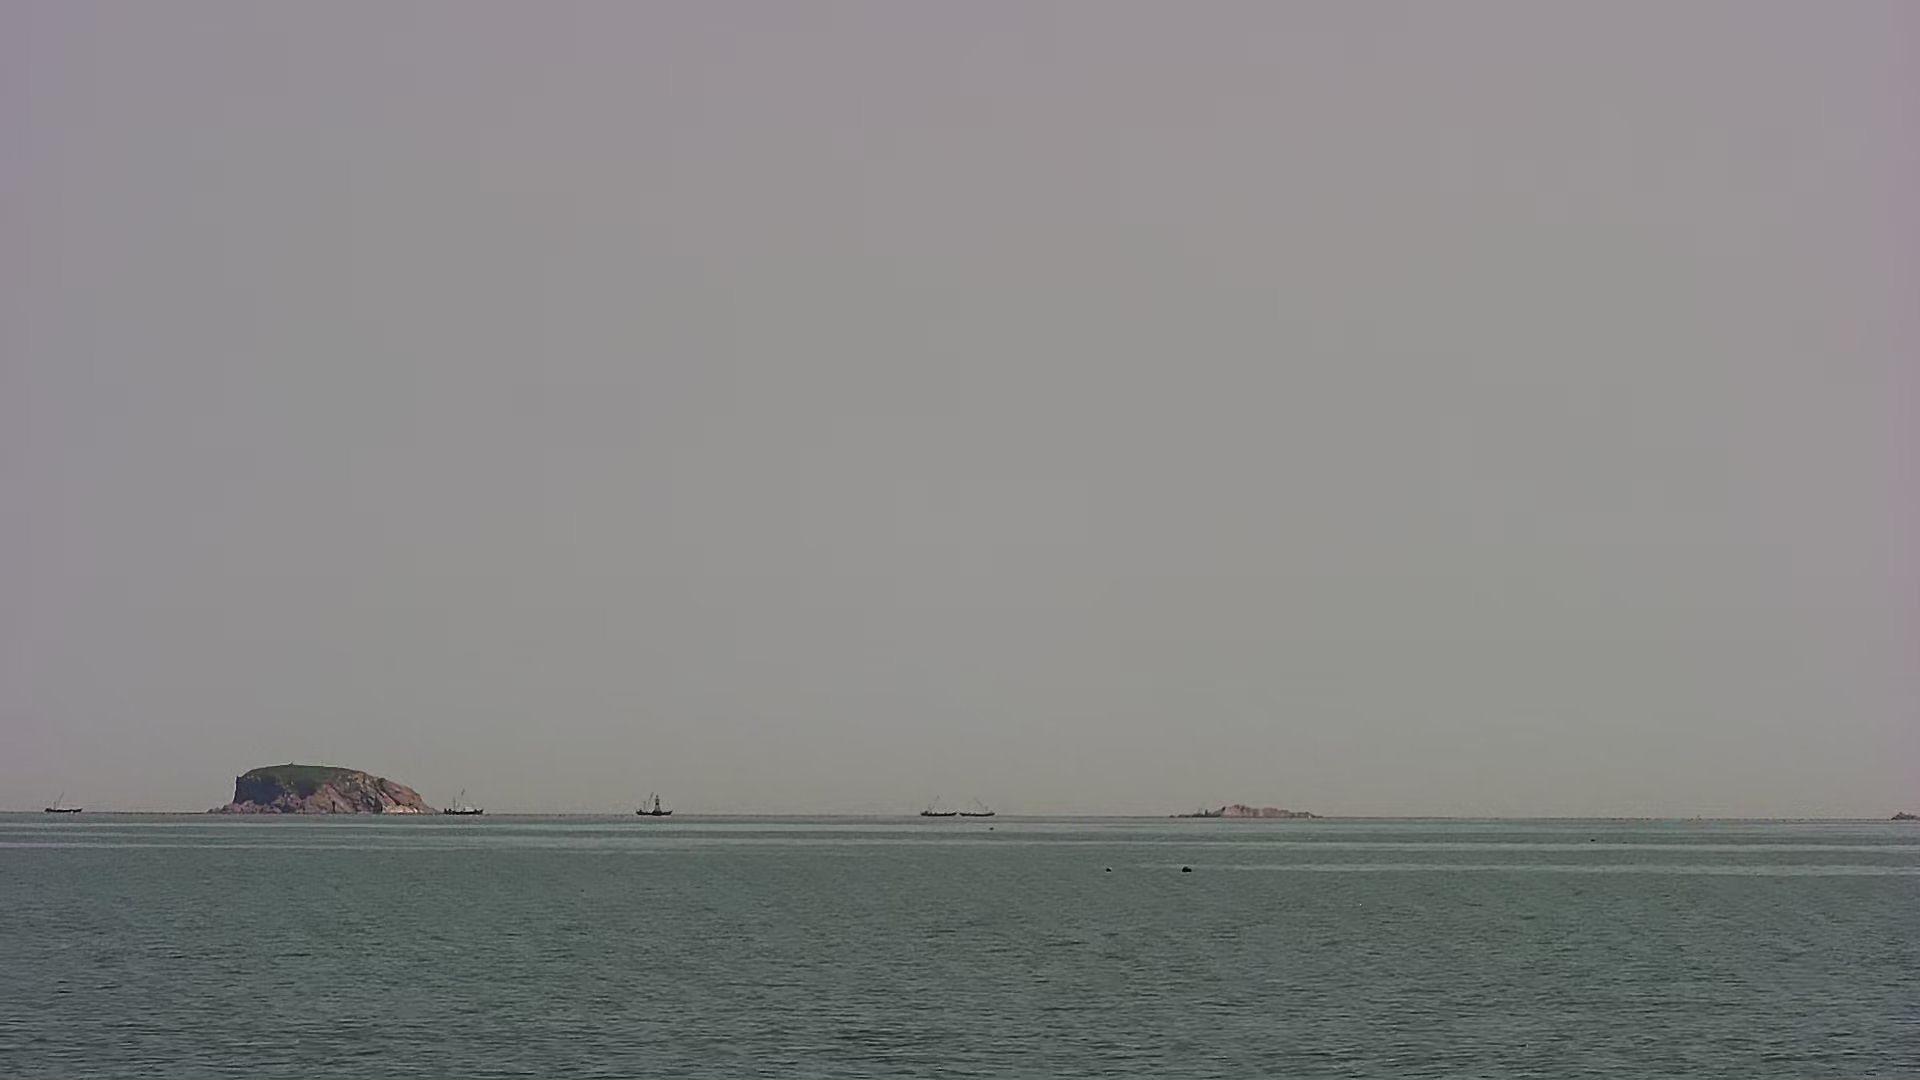rock: (204, 764, 436, 816)
